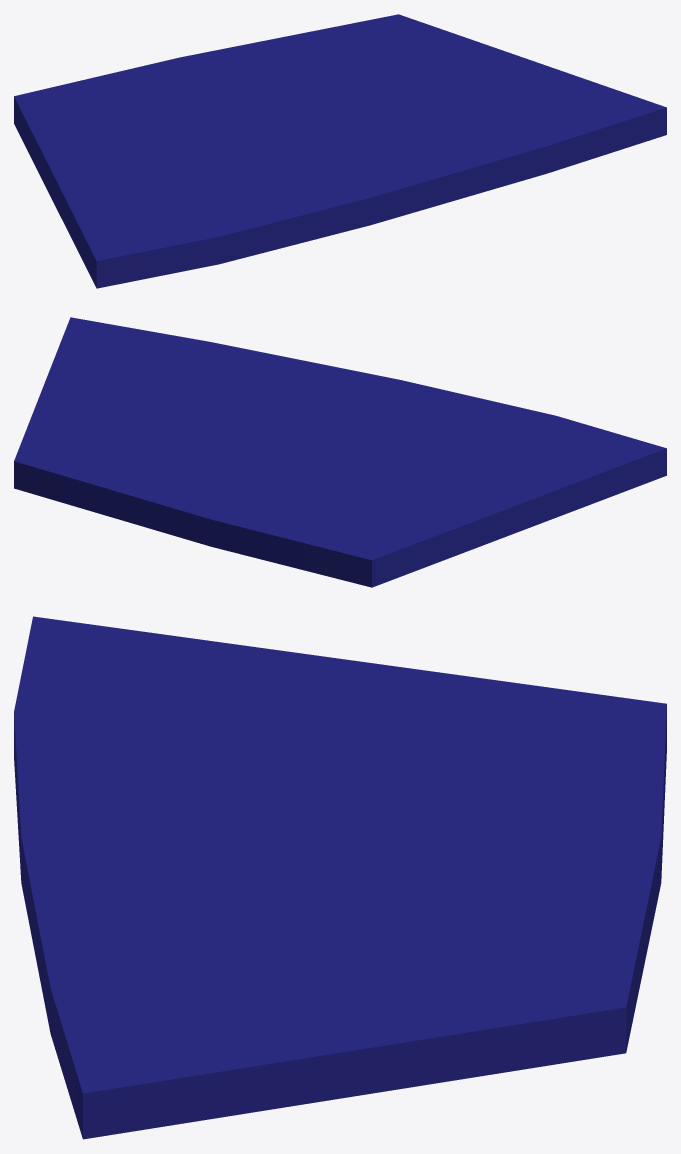
File: SkateboardPart2.fbx
The picture shows the model from 3 angles, top to bottom: view 1: azimuth 30°, elevation 25°; view 2: azimuth 150°, elevation 25°; view 3: azimuth 270°, elevation 25°; orthographic projection. The views are drawn at different scales.
Visible parts, largest first — view 1: SkateboardPart2; view 2: SkateboardPart2; view 3: SkateboardPart2.
Boxes of the visible parts, x1,y1,x2,y2 form: SkateboardPart2: [14, 14, 666, 288]; SkateboardPart2: [14, 317, 666, 587]; SkateboardPart2: [14, 616, 666, 1139].
Size of the model in its own units: 51.91 by 2.33 by 30.03.
